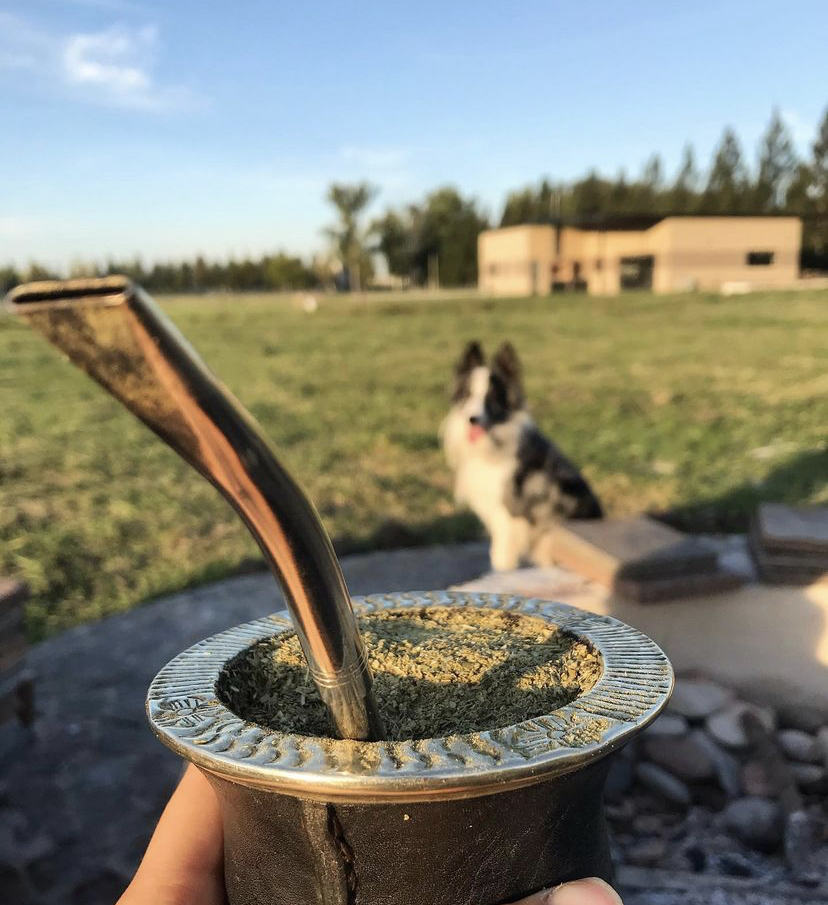calabaza: (129, 591, 676, 905)
mate: (1, 260, 674, 905)
